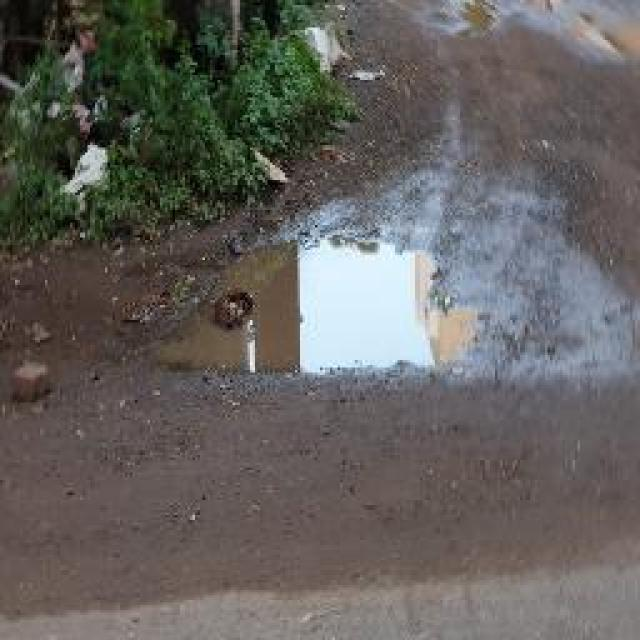puddle: (135, 235, 490, 385)
